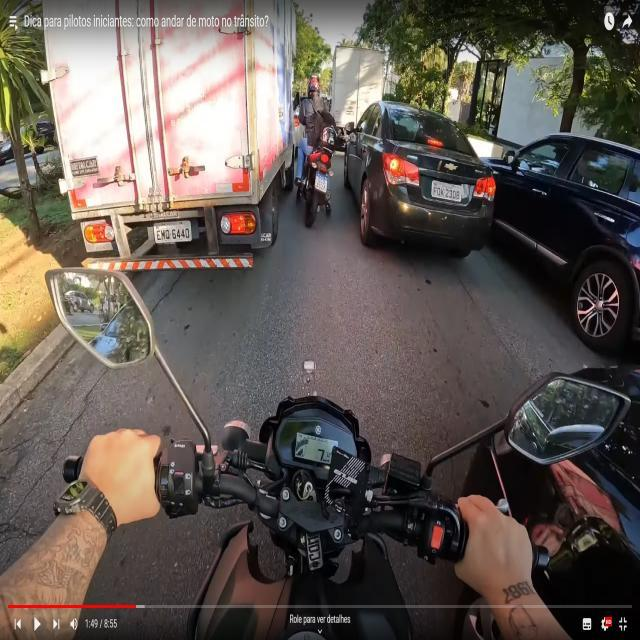Placa_mercosul_carro: (154, 220, 192, 244), (431, 180, 462, 202)
placa_moto: (314, 173, 328, 191)
